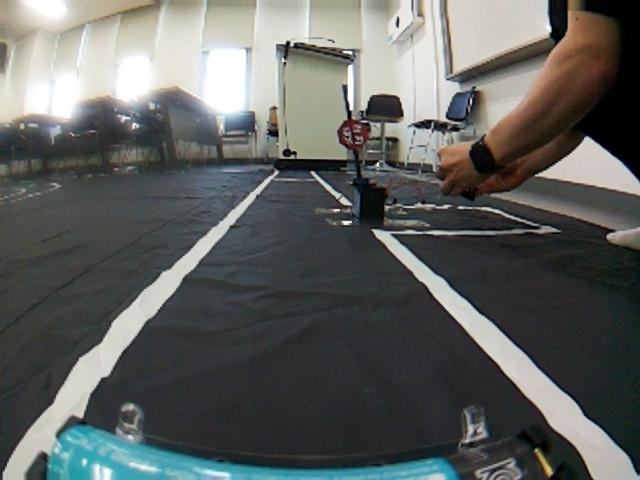sign_stop: (331, 109, 381, 162)
straight: (28, 244, 601, 443)
